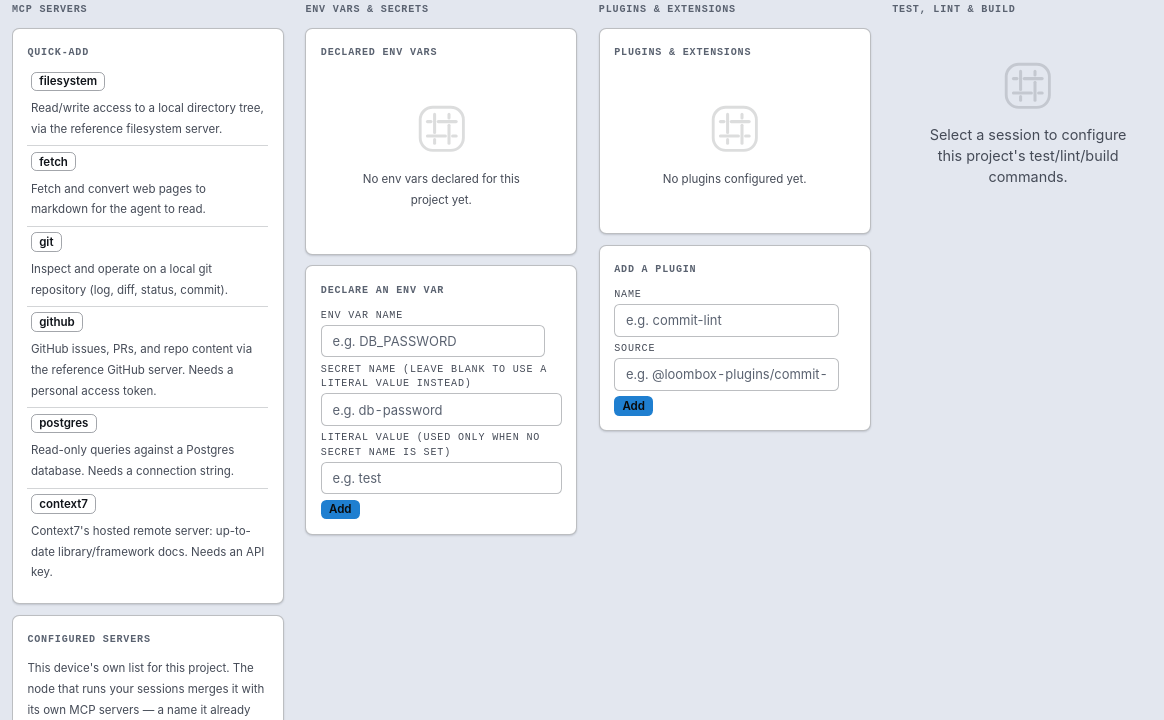
Scenario: ProjectConfigPanel (issue #366) › adding then removing a plugin round-trips through its own storage, independently of the MCP list
In the field with test id "plugin-add-name": [726, 320] box [614, 304, 839, 337], type "commit-lint"
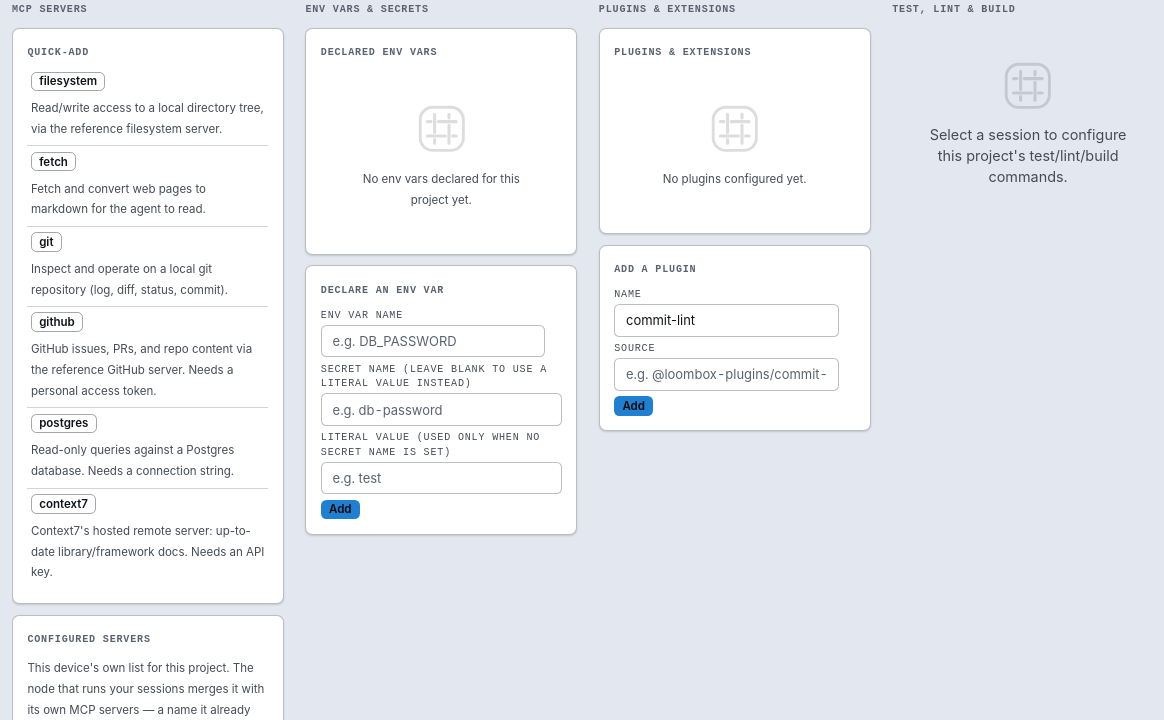
In the field with test id "plugin-add-source": [726, 374] box [614, 358, 839, 391], type "@loombox-plugins/commit-lint"
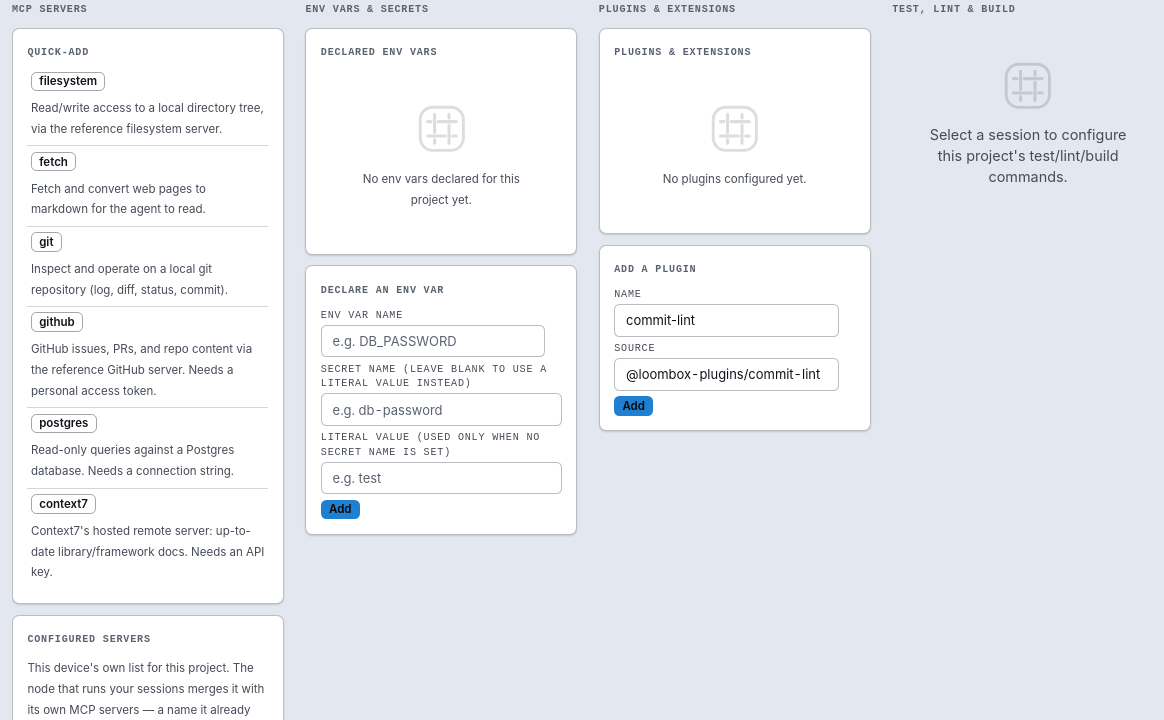
Click the button with test id "plugin-add-submit": [634, 406] box [614, 396, 653, 416]
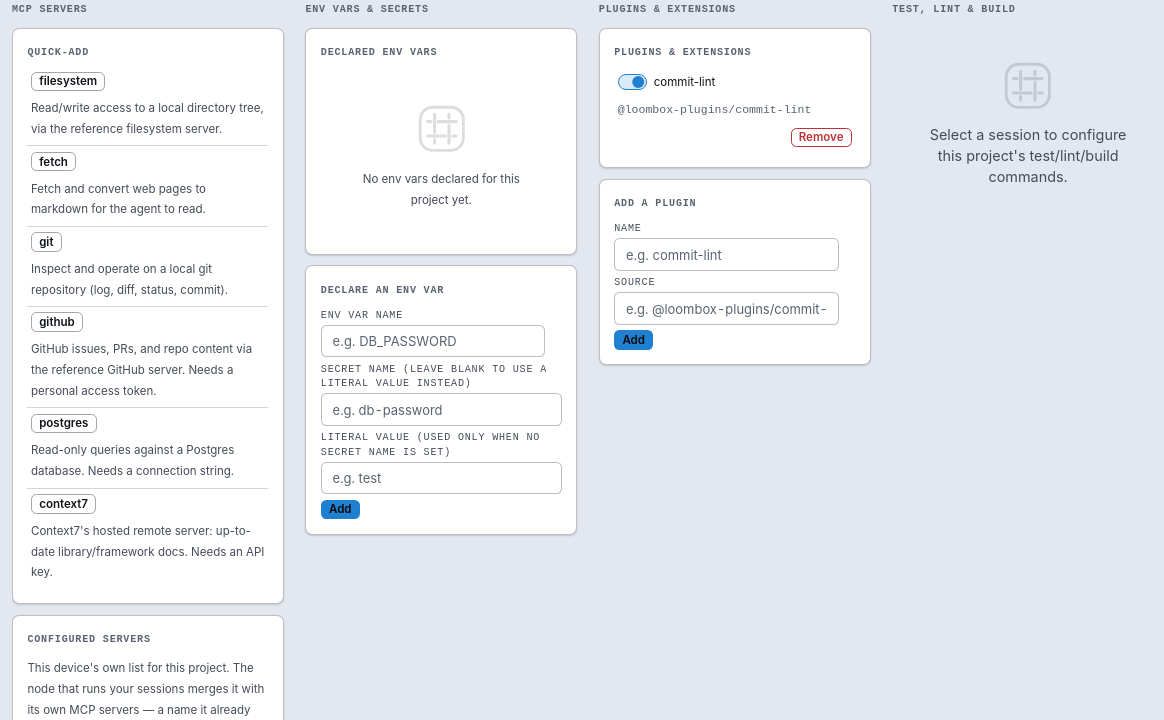
Expected: the list item with test id "plugin-commit-lint" is shown, [614, 72, 855, 153]
Click the button with test id "plugin-remove-commit-lint": [821, 137] box [791, 128, 852, 147]
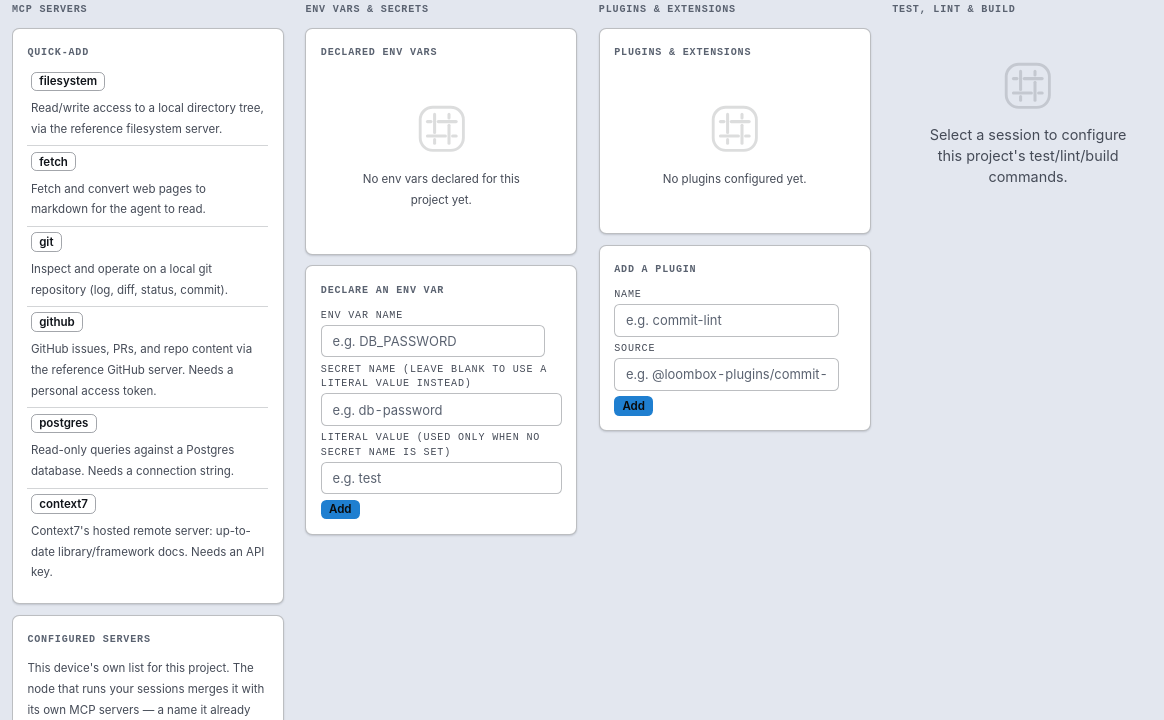
Expected: the list item with test id "plugin-commit-lint" is gone
